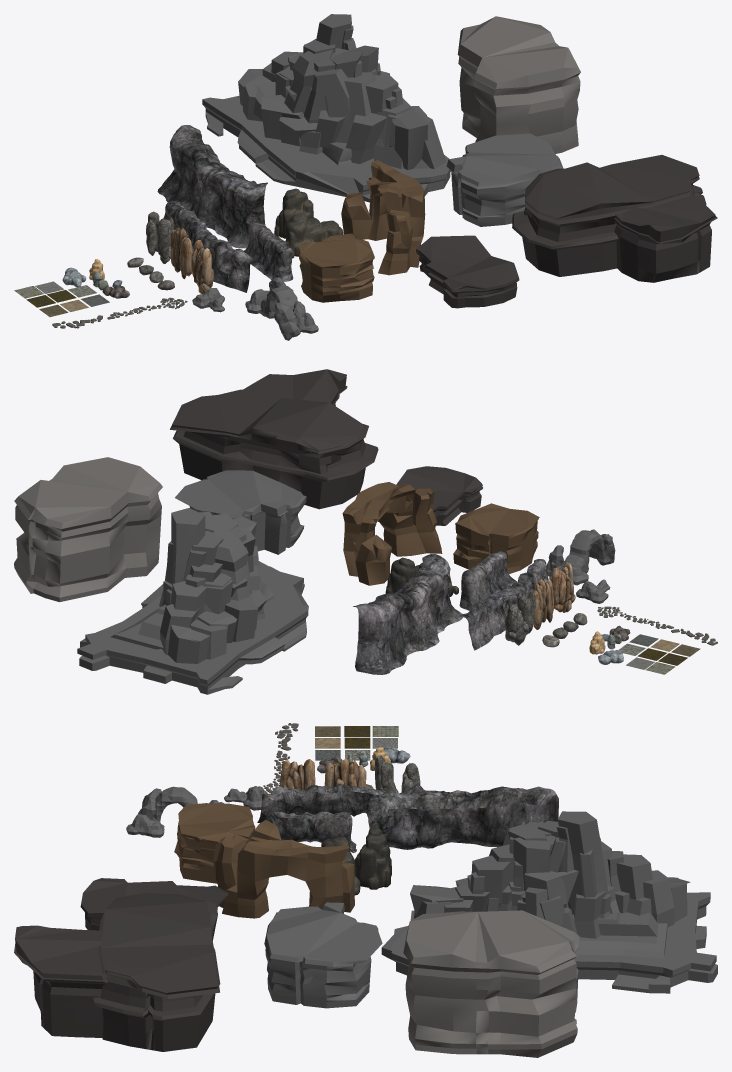
The model's file is terrain_and_rocks2.fbx.
The picture shows the model from 3 angles, top to bottom: view 1: azimuth 30°, elevation 25°; view 2: azimuth 150°, elevation 25°; view 3: azimuth 270°, elevation 25°; orthographic projection. The views are drawn at different scales.
Parts seen in each view (by area): view 1: combined_assets_1.002, combined_assets_1.005, combined_assets_1.010, combined_assets_1.006, Cliff02LP, combined_assets_1.003, combined_assets_1.009, combined_assets_1.008, Cliff03LP, combined_assets_1.001, Cliff01LP, cliff2 (+6 smaller); view 2: combined_assets_1.002, combined_assets_1.005, combined_assets_1.010, Cliff02LP, combined_assets_1.003, combined_assets_1.006, combined_assets_1.008, combined_assets_1.009, Cliff03LP, combined_assets_1.001, Cliff01LP, RockForm03_LP (+6 smaller); view 3: combined_assets_1.002, combined_assets_1.005, combined_assets_1.010, combined_assets_1.006, Cliff02LP, combined_assets_1.003, combined_assets_1.008, Cliff03LP, combined_assets_1.009, Cliff01LP, combined_assets_1.001, cliff3 (+5 smaller).
Part boxes in pixels (bbox=[...]): combined_assets_1.002: bbox=[202, 14, 450, 202]; combined_assets_1.005: bbox=[512, 155, 717, 282]; combined_assets_1.010: bbox=[457, 16, 580, 153]; combined_assets_1.006: bbox=[446, 133, 563, 226]; Cliff02LP: bbox=[157, 125, 267, 248]; combined_assets_1.003: bbox=[341, 160, 425, 275]; combined_assets_1.009: bbox=[416, 235, 519, 308]; combined_assets_1.008: bbox=[298, 233, 374, 302]; Cliff03LP: bbox=[163, 201, 255, 292]; combined_assets_1.001: bbox=[245, 277, 318, 340]; Cliff01LP: bbox=[244, 222, 293, 282]; cliff2: bbox=[285, 213, 343, 258]; combined_assets_1.002: bbox=[77, 508, 308, 694]; combined_assets_1.005: bbox=[170, 369, 378, 509]; combined_assets_1.010: bbox=[14, 457, 162, 602]; Cliff02LP: bbox=[353, 554, 462, 674]; combined_assets_1.003: bbox=[342, 482, 442, 585]; combined_assets_1.006: bbox=[175, 470, 306, 554]; combined_assets_1.008: bbox=[453, 503, 539, 573]; combined_assets_1.009: bbox=[378, 466, 482, 525]; Cliff03LP: bbox=[459, 559, 548, 650]; combined_assets_1.001: bbox=[546, 529, 615, 585]; Cliff01LP: bbox=[459, 551, 516, 610]; RockForm03_LP: bbox=[551, 562, 575, 612]; combined_assets_1.002: bbox=[381, 811, 717, 993]; combined_assets_1.005: bbox=[14, 893, 220, 1051]; combined_assets_1.010: bbox=[403, 910, 579, 1057]; combined_assets_1.006: bbox=[264, 902, 382, 1008]; Cliff02LP: bbox=[366, 786, 558, 849]; combined_assets_1.003: bbox=[213, 820, 354, 918]; combined_assets_1.008: bbox=[174, 803, 255, 883]; Cliff03LP: bbox=[257, 783, 449, 822]; combined_assets_1.009: bbox=[80, 878, 228, 930]; Cliff01LP: bbox=[268, 811, 356, 852]; combined_assets_1.001: bbox=[126, 786, 223, 837]; cliff3: bbox=[355, 827, 391, 889].
Bounding box in the file's own units: 3596 × 736 × 3175.
